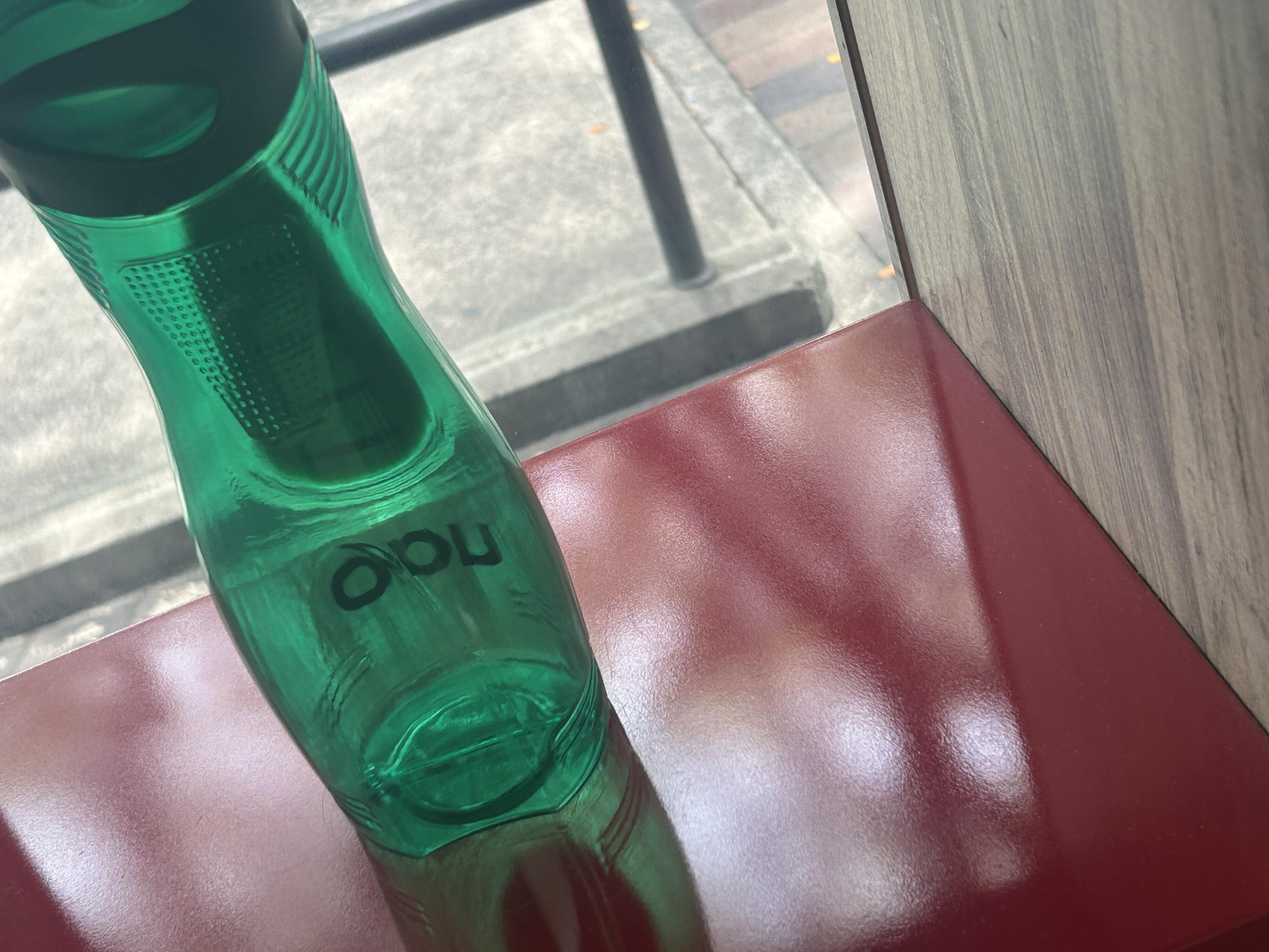termo: (0, 0, 610, 857)
